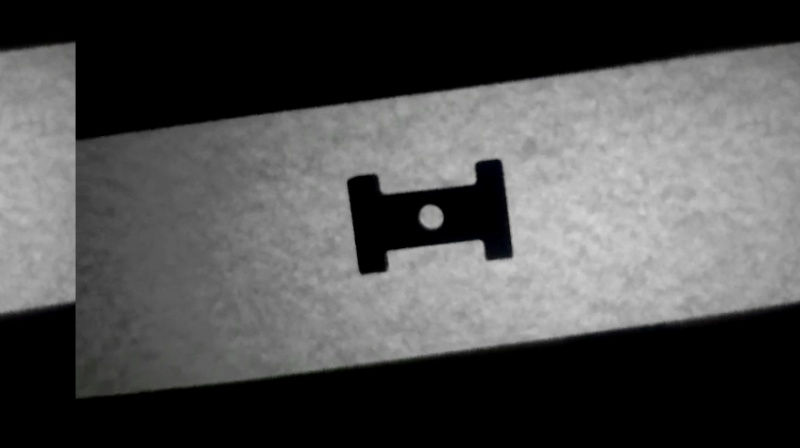O002: (344, 156, 518, 277)
